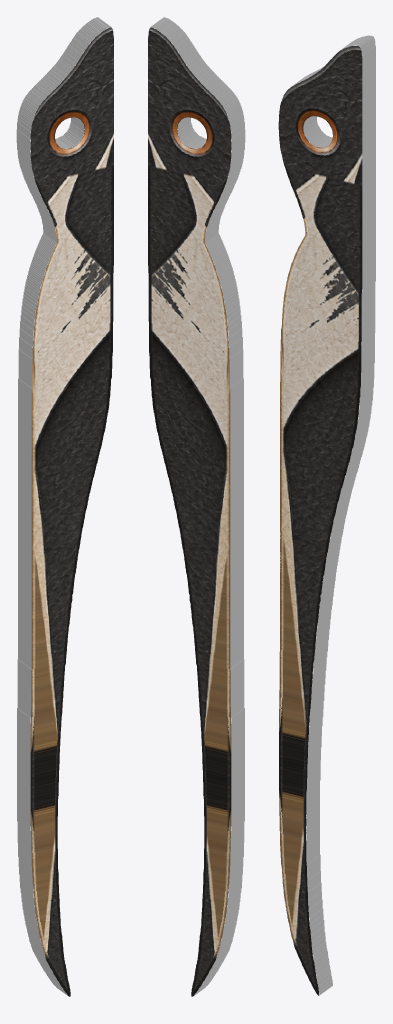
File: LowerLeg.glb
3 views of the same model, side by side, from view 1: azimuth 30°, elevation 25°; view 2: azimuth 150°, elevation 25°; view 3: azimuth 330°, elevation 25° (orthographic).
Visible parts, largest first — view 1: PaperVolume; view 2: PaperVolume; view 3: PaperVolume.
Boxes of the visible parts, x1=… form: PaperVolume: x1=16, y1=17, x2=113, y2=996; PaperVolume: x1=148, y1=17, x2=245, y2=996; PaperVolume: x1=278, y1=35, x2=375, y2=995.
Bounding box in the file's own units: 0.3 × 3.12 × 0.08.
3 materials, 2 textured.
